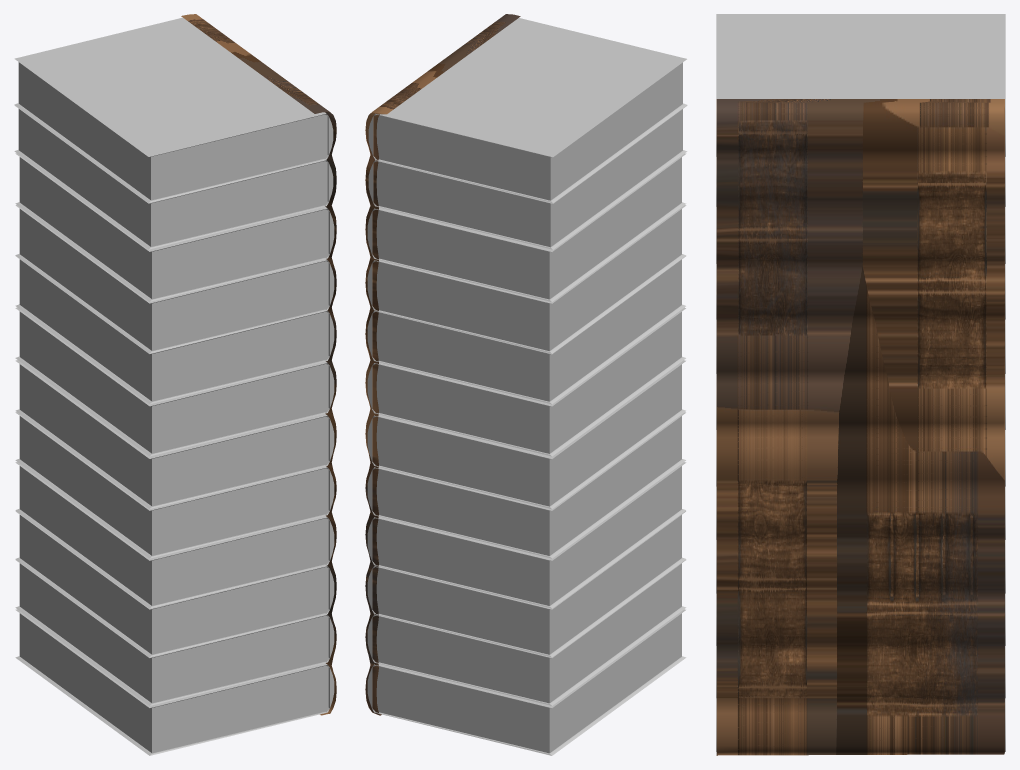
File: BOOKS.obj
The picture shows the model from 3 angles, left to right: view 1: azimuth 30°, elevation 25°; view 2: azimuth 150°, elevation 25°; view 3: azimuth 270°, elevation 25°; orthographic projection. The views are drawn at different scales.
Visible parts, largest first — view 1: object_1, object_0; view 2: object_1, object_0; view 3: object_0, object_1.
Part boxes in pixels (bbox=[...]): object_1: bbox=[14, 17, 334, 755]; object_0: bbox=[181, 14, 336, 715]; object_1: bbox=[367, 18, 687, 755]; object_0: bbox=[365, 14, 520, 715]; object_0: bbox=[716, 99, 1004, 755]; object_1: bbox=[716, 14, 1005, 751].
Bounding box in the file's own units: 1.38 × 4.22 × 1.71.
